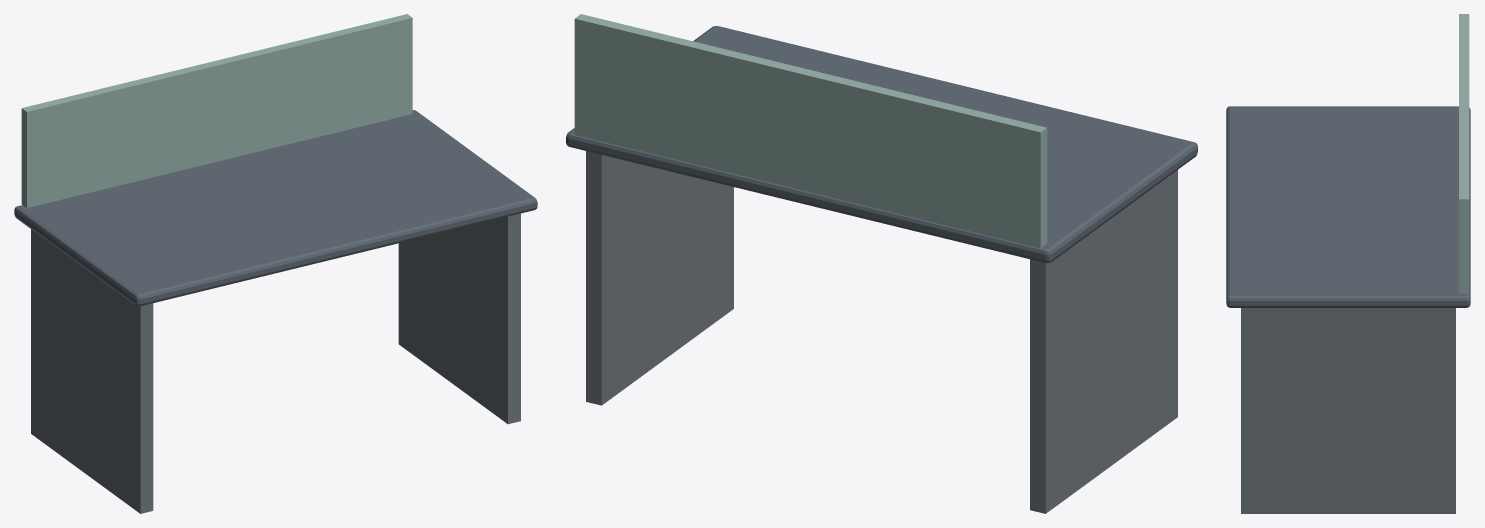
File: ai.test-desk.glb
3 renders of one model, left to right at view 1: azimuth 30°, elevation 25°; view 2: azimuth 150°, elevation 25°; view 3: azimuth 270°, elevation 25°, orthographic. The views are drawn at different scales.
Parts seen in each view (by area): view 1: Hero_Asset; view 2: Hero_Asset; view 3: Hero_Asset.
Boxes of the visible parts, box(x1,y1,x2,y2) form: Hero_Asset: box(14, 14, 537, 513); Hero_Asset: box(566, 14, 1197, 513); Hero_Asset: box(1226, 14, 1470, 513).
Bounding box in the file's own units: 0.9813 × 0.75 × 0.5257.
